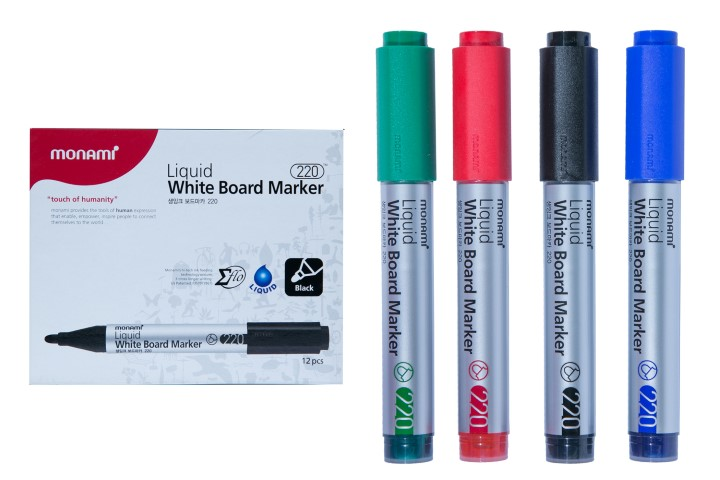Nonrec_Other: (531, 14, 607, 470), (366, 12, 442, 465), (448, 18, 515, 466), (623, 22, 685, 468)
